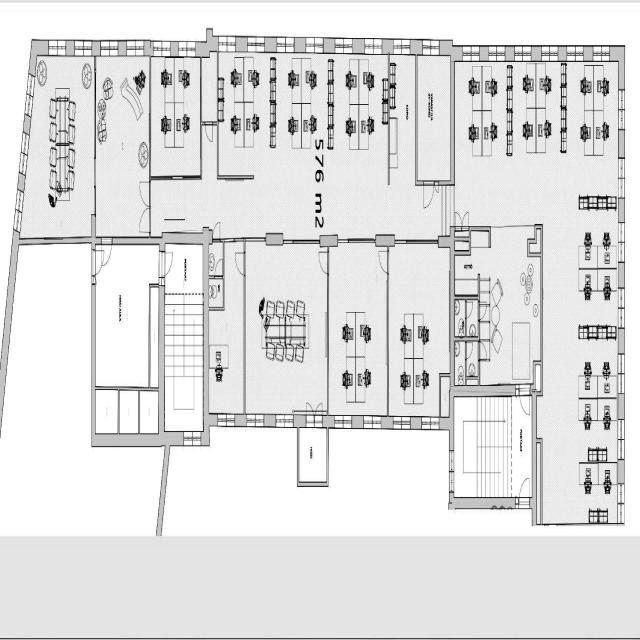door: (134, 176, 153, 234), (86, 246, 106, 289), (305, 400, 333, 429), (423, 178, 442, 208), (518, 384, 532, 421), (100, 237, 115, 270), (160, 256, 175, 289), (316, 251, 332, 281), (376, 249, 392, 278), (522, 470, 532, 514), (234, 249, 249, 275)
window: (354, 26, 419, 60), (560, 32, 612, 67), (460, 33, 510, 67), (303, 30, 357, 61), (510, 32, 560, 65), (218, 28, 269, 59), (97, 32, 148, 62), (150, 35, 200, 61), (48, 34, 92, 61), (272, 28, 305, 64), (614, 276, 628, 340), (418, 30, 443, 64), (615, 408, 627, 478), (613, 348, 625, 411), (616, 216, 629, 273), (329, 413, 356, 440), (616, 154, 629, 205), (218, 404, 237, 436), (618, 87, 631, 132), (24, 71, 35, 124), (418, 411, 440, 435), (12, 182, 24, 225), (360, 416, 382, 438), (18, 127, 28, 173), (275, 414, 294, 437), (391, 414, 412, 434), (184, 430, 202, 450), (246, 414, 265, 432), (449, 451, 456, 494)
zone: (218, 46, 389, 183), (245, 243, 329, 418), (455, 238, 543, 394), (32, 49, 94, 244), (388, 238, 451, 421), (92, 45, 151, 235), (327, 242, 386, 419), (152, 41, 202, 178), (209, 240, 242, 424), (417, 48, 451, 187)
